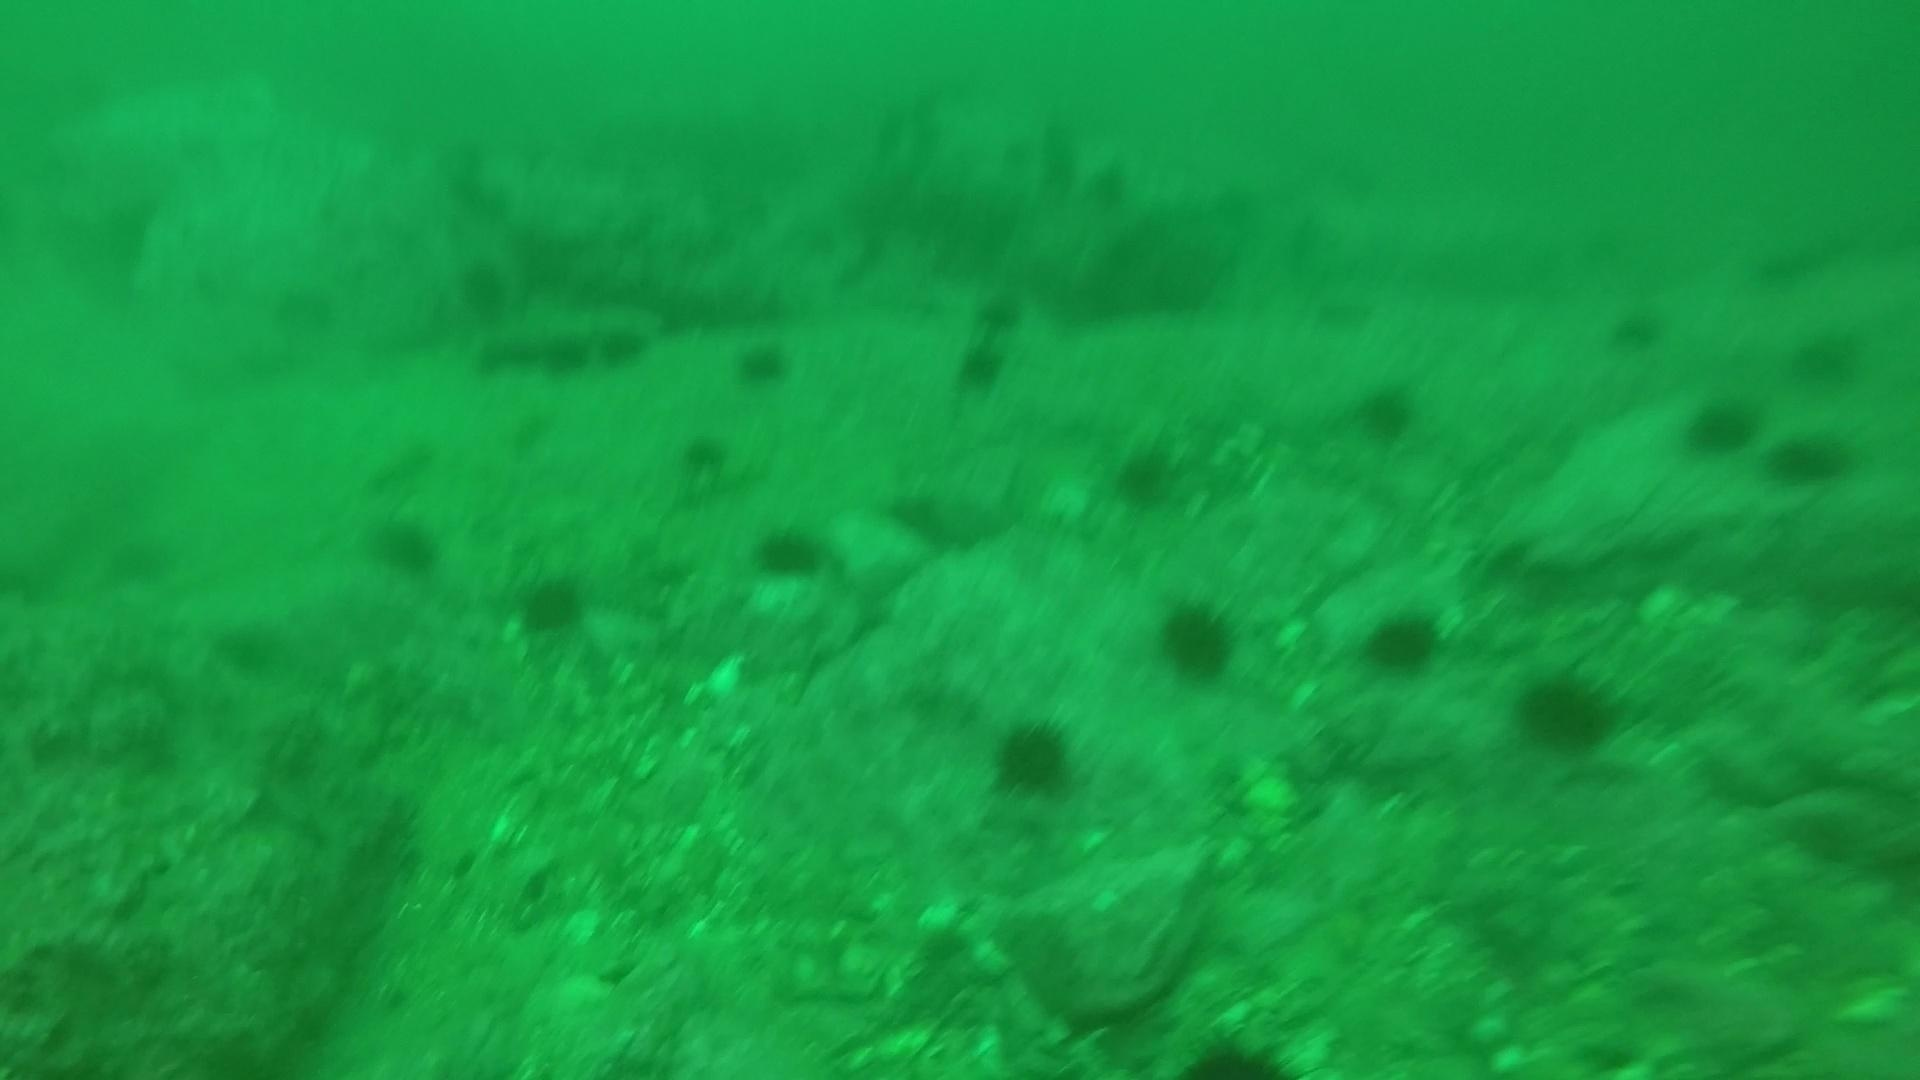echinus: (1510, 665, 1623, 758), (986, 713, 1080, 802), (1151, 595, 1241, 686), (1357, 603, 1447, 680), (1764, 425, 1854, 491), (512, 568, 592, 641), (365, 510, 444, 579), (1680, 393, 1760, 460), (1106, 440, 1182, 512), (1788, 322, 1866, 390), (750, 520, 829, 585), (1352, 377, 1422, 444), (452, 255, 516, 324), (731, 336, 795, 392), (951, 338, 1011, 396), (1605, 301, 1669, 355), (592, 320, 651, 373), (967, 287, 1027, 339), (541, 332, 600, 384), (477, 328, 537, 380), (1077, 154, 1137, 206), (676, 429, 732, 480)
